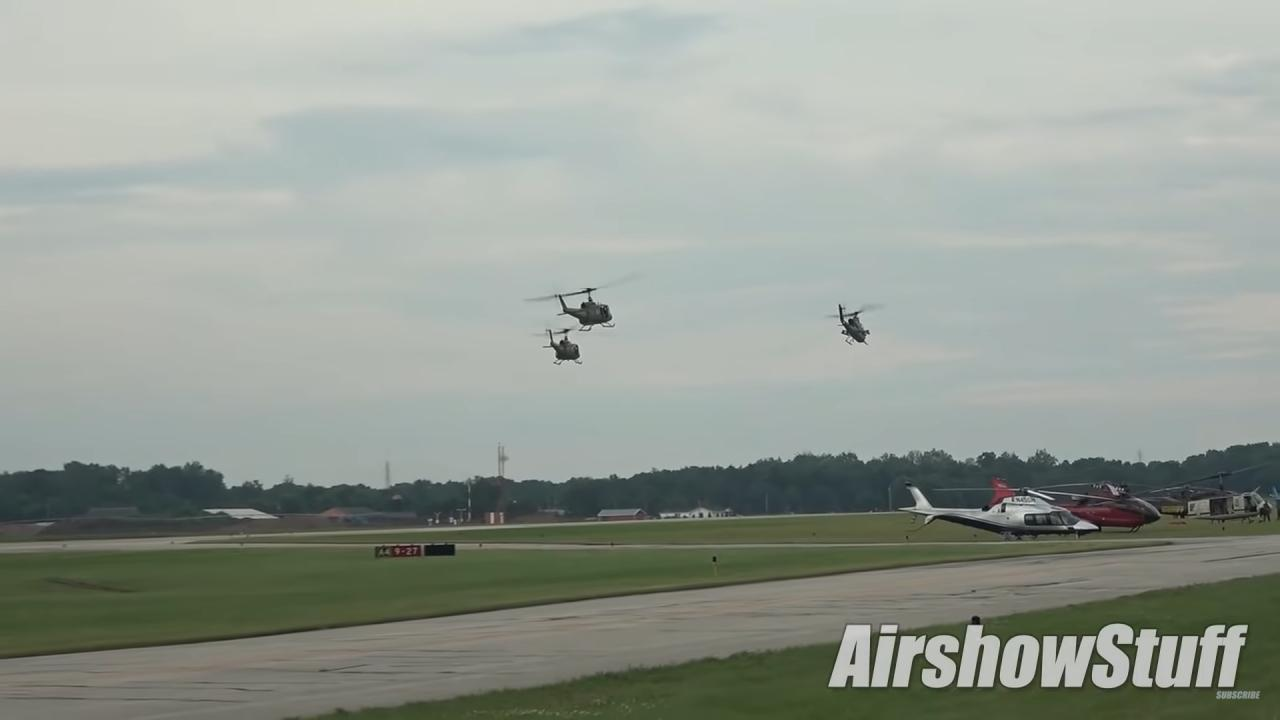Helicopter: (522, 264, 652, 336), (804, 291, 906, 360), (516, 314, 617, 376)
